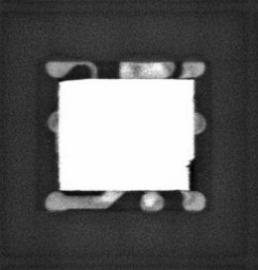DIE_BROKEN: (186, 156, 198, 192)
